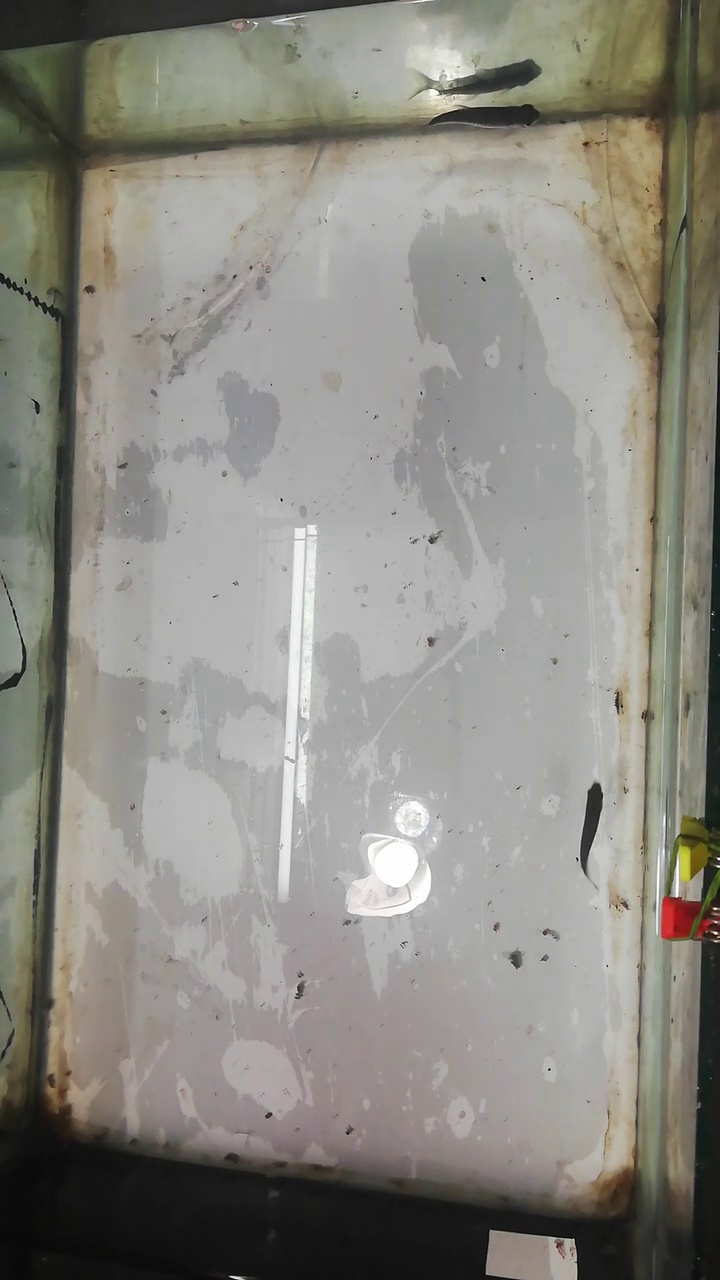fish1: (426, 102, 540, 141)
fish2: (579, 777, 607, 876)
